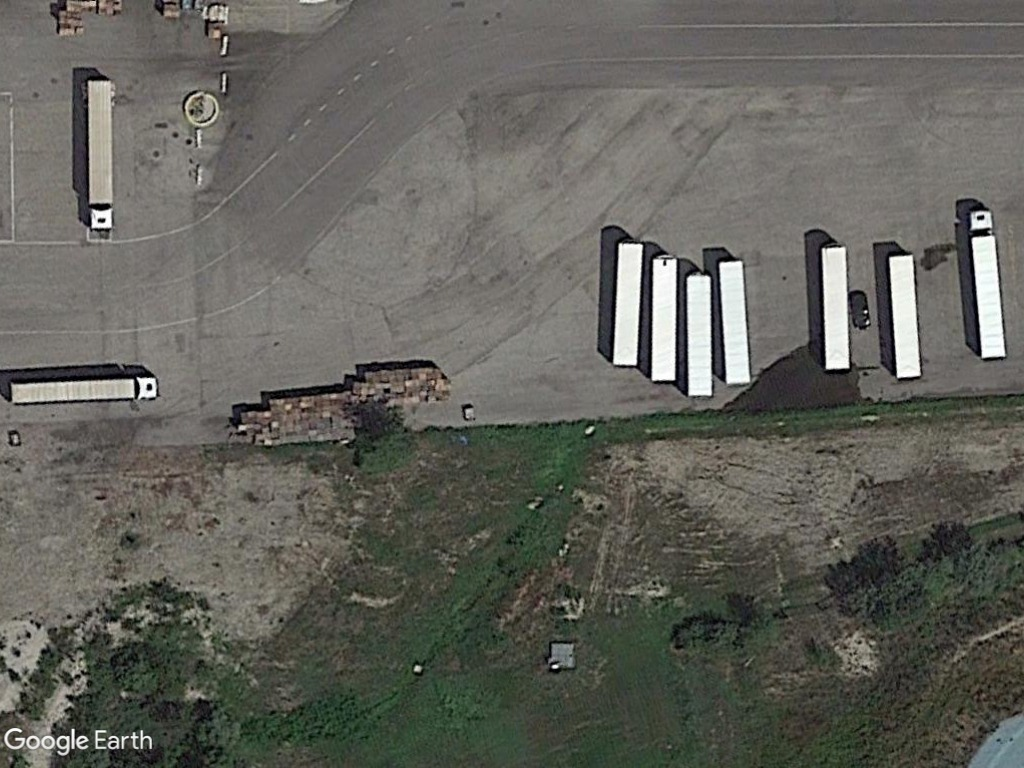longvehicle: (963, 204, 1009, 363), (81, 74, 118, 234), (883, 249, 924, 381), (7, 374, 164, 408), (815, 241, 852, 374), (647, 252, 680, 388), (612, 237, 645, 369), (716, 254, 749, 385), (684, 267, 714, 399)
